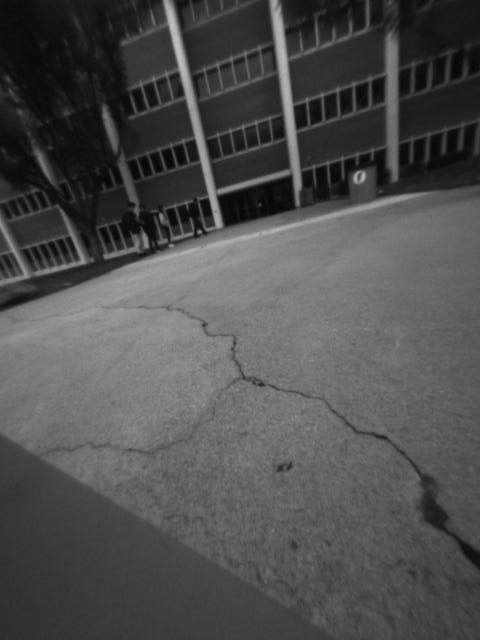trashcan: (345, 162, 381, 204)
